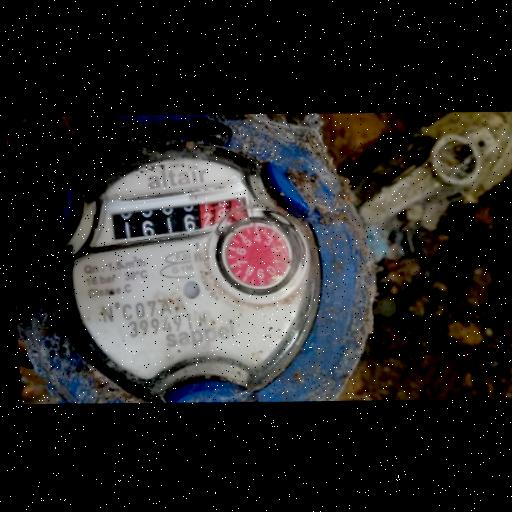1: (114, 212, 139, 239), (155, 207, 179, 234)
2: (196, 202, 218, 229)
3: (229, 198, 247, 213)
6: (134, 209, 158, 237), (176, 205, 200, 232)
9: (213, 199, 231, 225)
border_water_meter_number: (102, 183, 253, 246)
